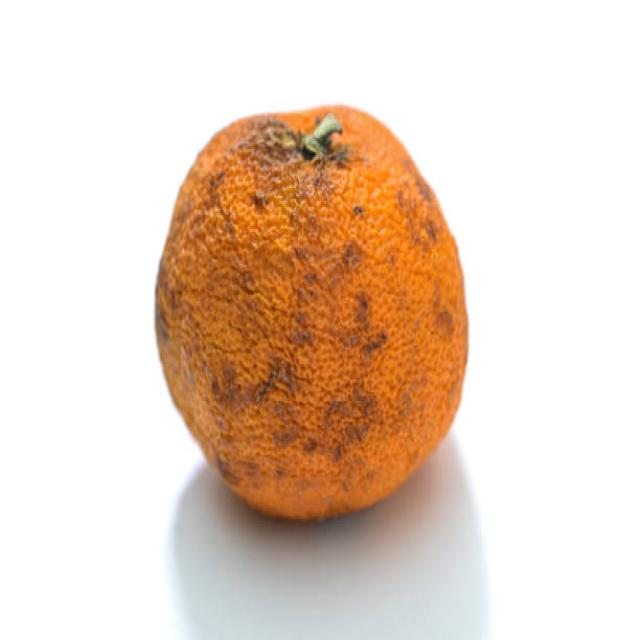overripe: (146, 92, 474, 523)
